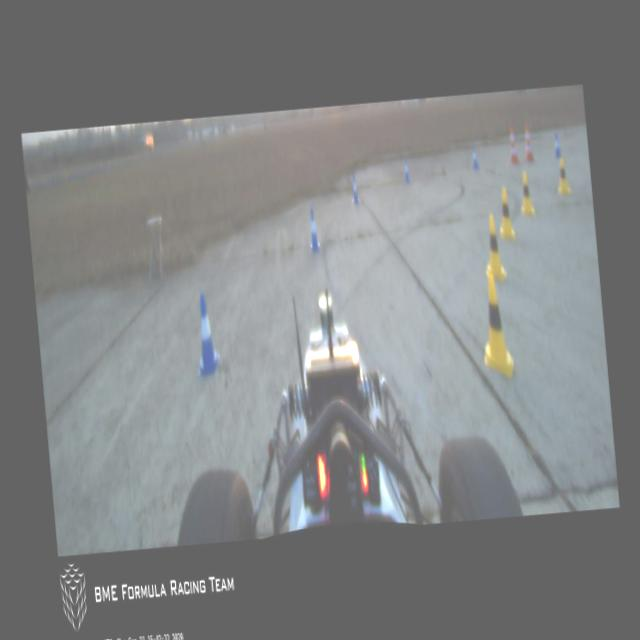blue_cone: (190, 292, 220, 376), (306, 208, 320, 252), (350, 174, 360, 202), (470, 144, 480, 171), (552, 130, 561, 158), (401, 155, 410, 181)
large_orange_cone: (507, 124, 520, 164), (522, 120, 534, 162)
yellow_cone: (478, 271, 513, 373), (480, 213, 506, 279), (496, 186, 516, 240), (518, 169, 536, 216), (556, 157, 570, 195)
